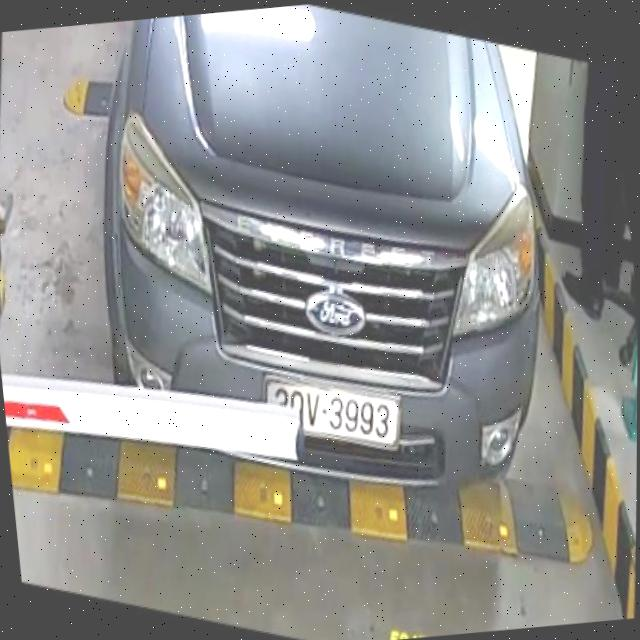car: (98, 6, 552, 487)
plate: (259, 367, 406, 458)
